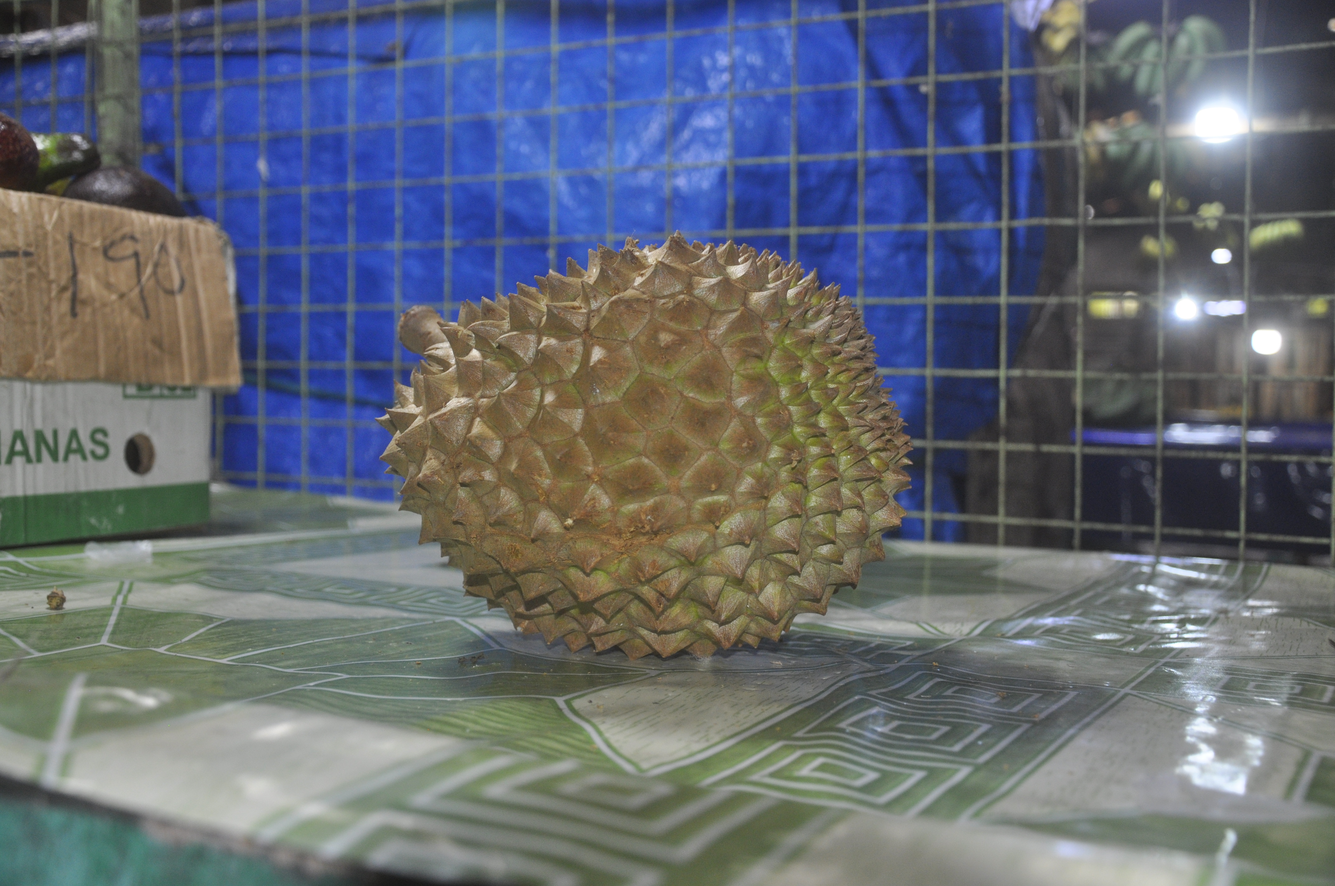mature: (379, 232, 910, 671)
